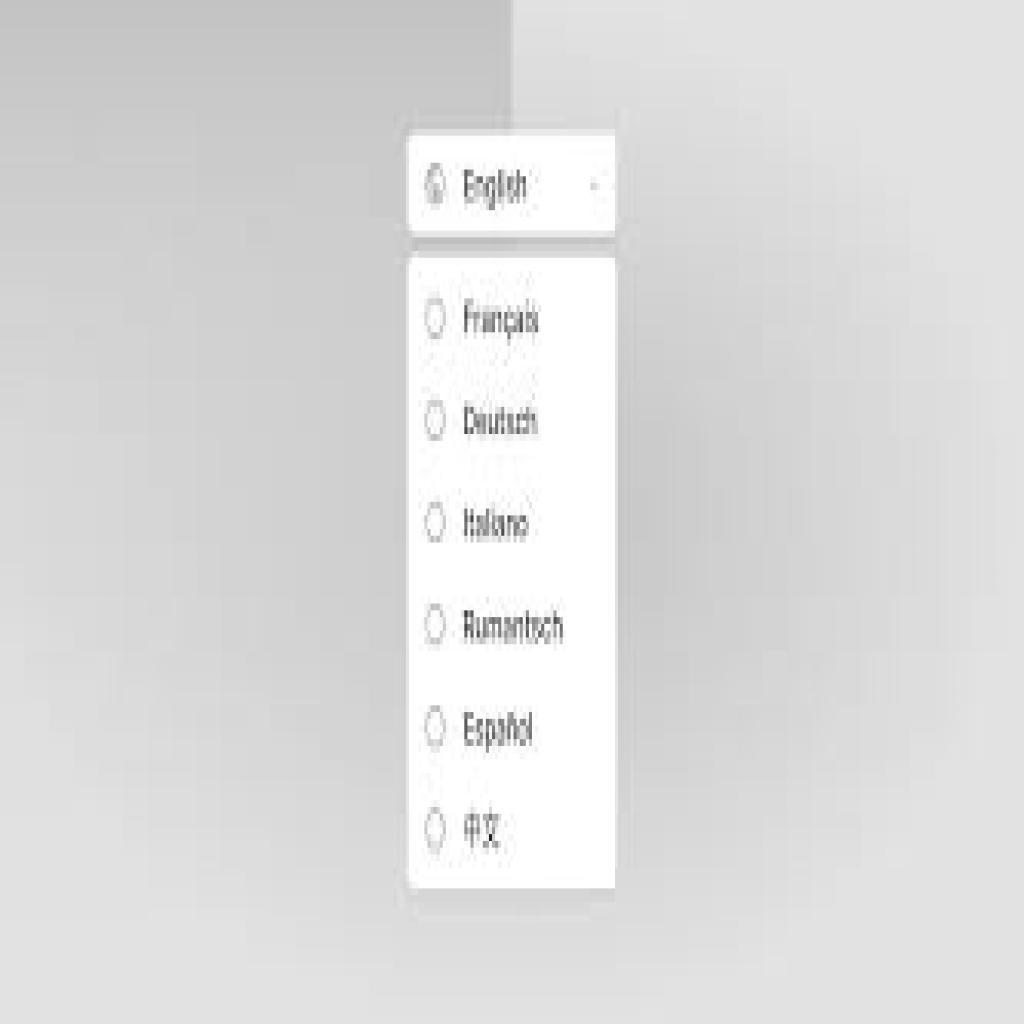dropdown: (407, 134, 618, 234)
radio: (420, 691, 452, 764), (422, 592, 449, 659), (422, 294, 452, 350), (424, 804, 451, 863), (425, 490, 450, 548), (428, 392, 451, 446)
